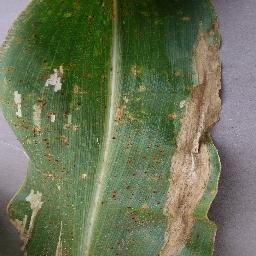Corn_Blight: (159, 20, 225, 254), (0, 63, 76, 136), (109, 54, 152, 141), (5, 183, 52, 253), (126, 143, 158, 229), (15, 139, 71, 178), (5, 2, 40, 50), (54, 216, 72, 256), (107, 237, 142, 256), (85, 1, 120, 20), (100, 182, 119, 209), (80, 170, 91, 182)
